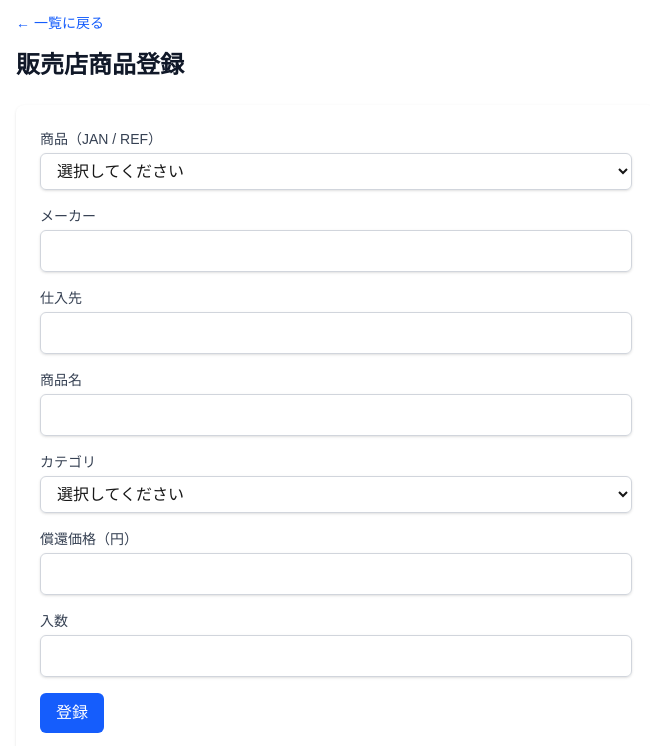
Test: NewDistributorProductPage › 送信失敗で submitError を表示する
Select "4900000000001 / REF-1" in the dropdown labelled "商品（JAN / REF）": (336, 172) [40,153,632,190]
In the field labelled "メーカー": (336, 251) [40,230,632,272], type "メーカーA"
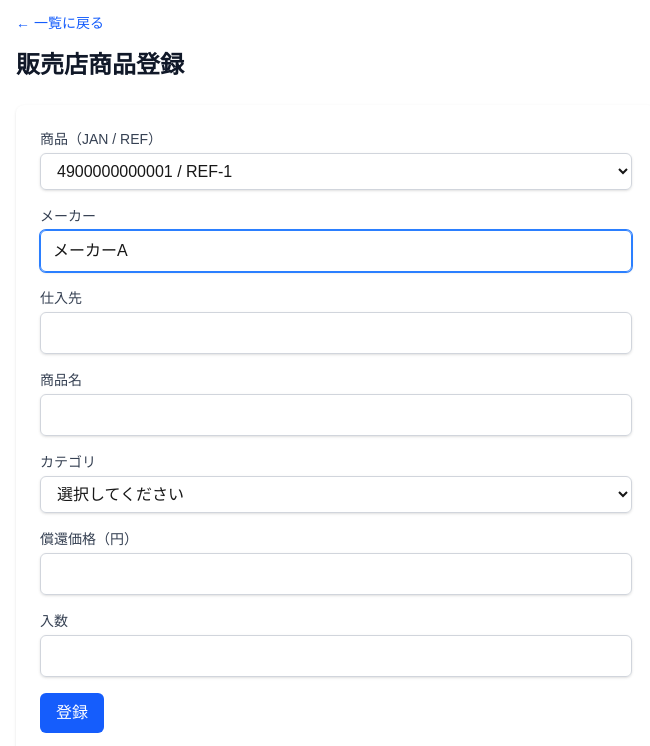
In the field labelled "仕入先": (336, 333) [40,312,632,354], type "仕入先A"
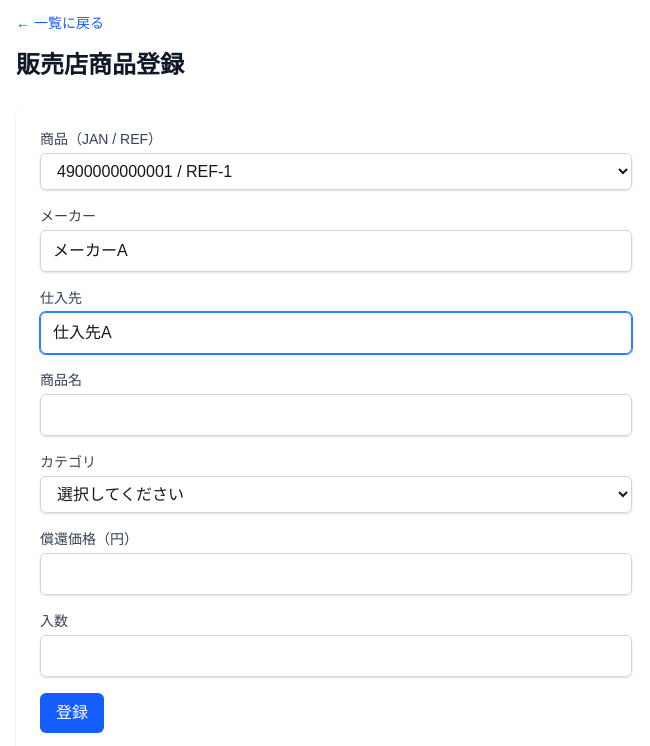
In the field labelled "商品名": (336, 415) [40,394,632,436], type "商品A"
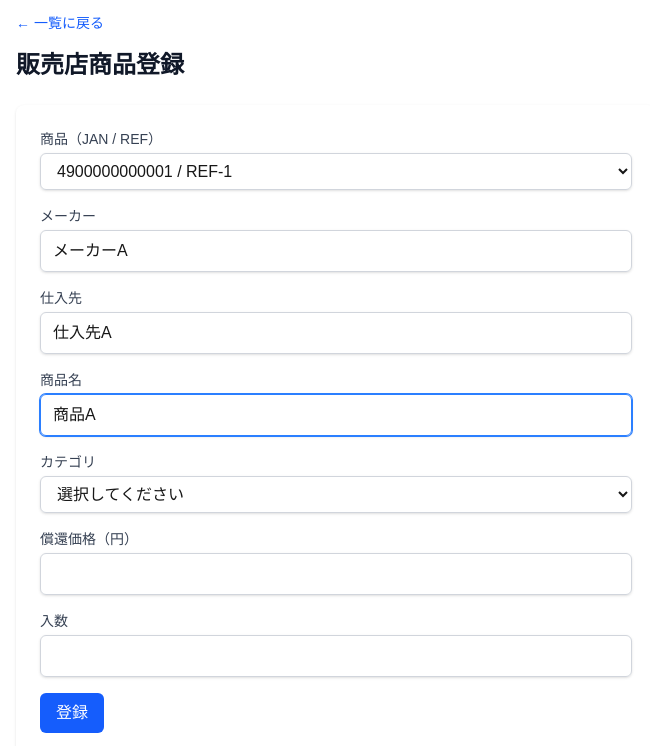
Select "カテゴリA" in the dropdown labelled "カテゴリ": (336, 494) [40,476,632,513]
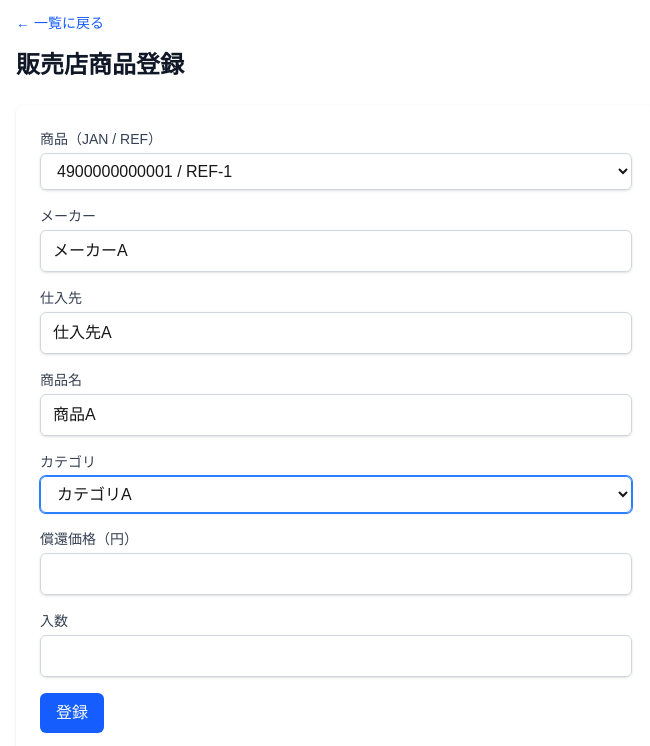
In the number field labelled "入数": (336, 656) [40,635,632,677], type "10"
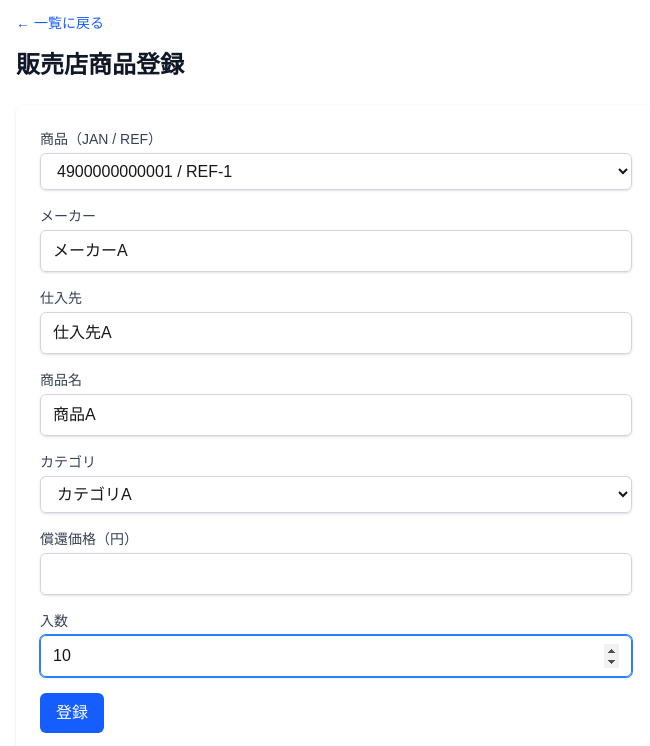
Click the button "登録": (72, 713) [40,693,104,733]
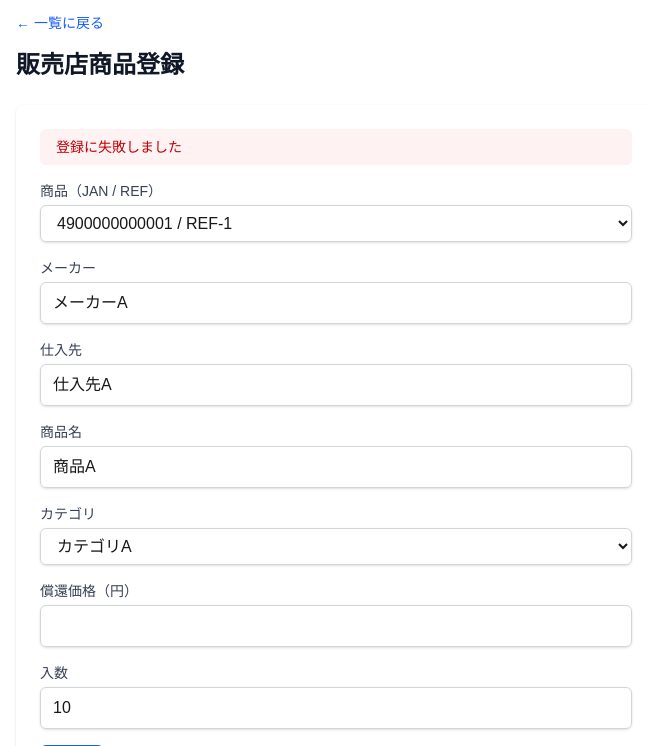
Now the text "登録に失敗しました" is shown, box [40,129,632,165]
